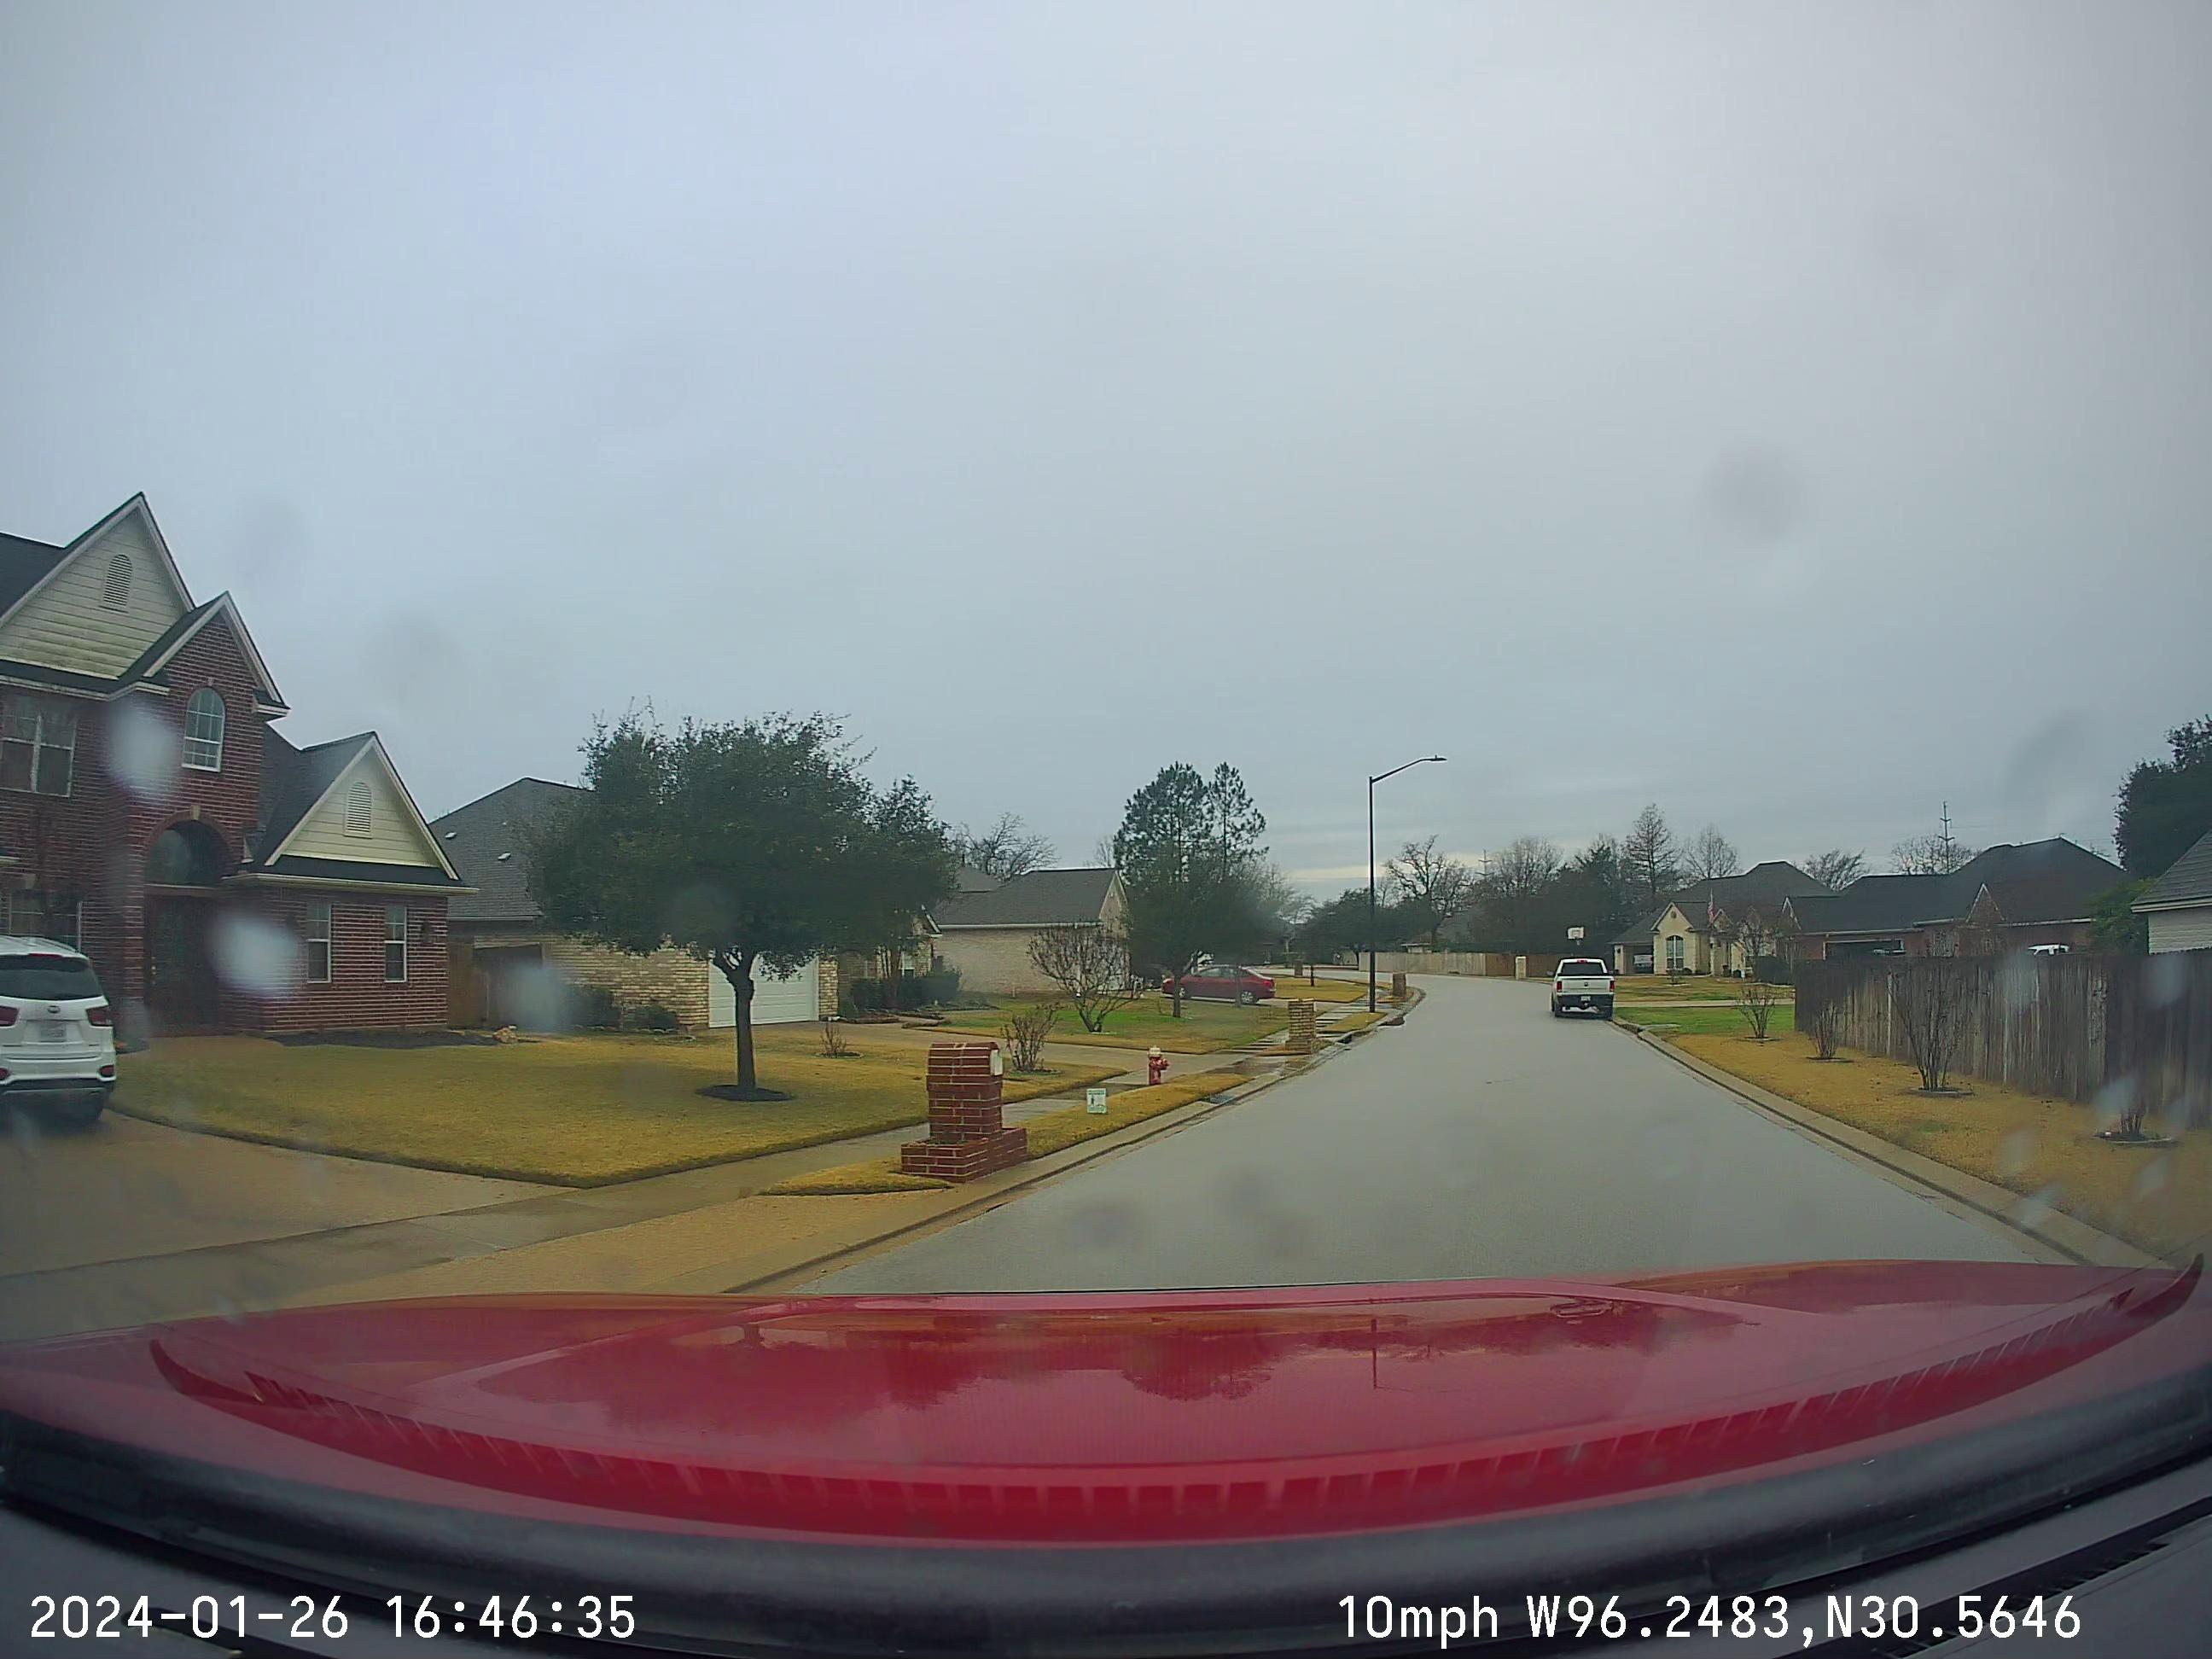car: (0, 1262, 2212, 1652)
